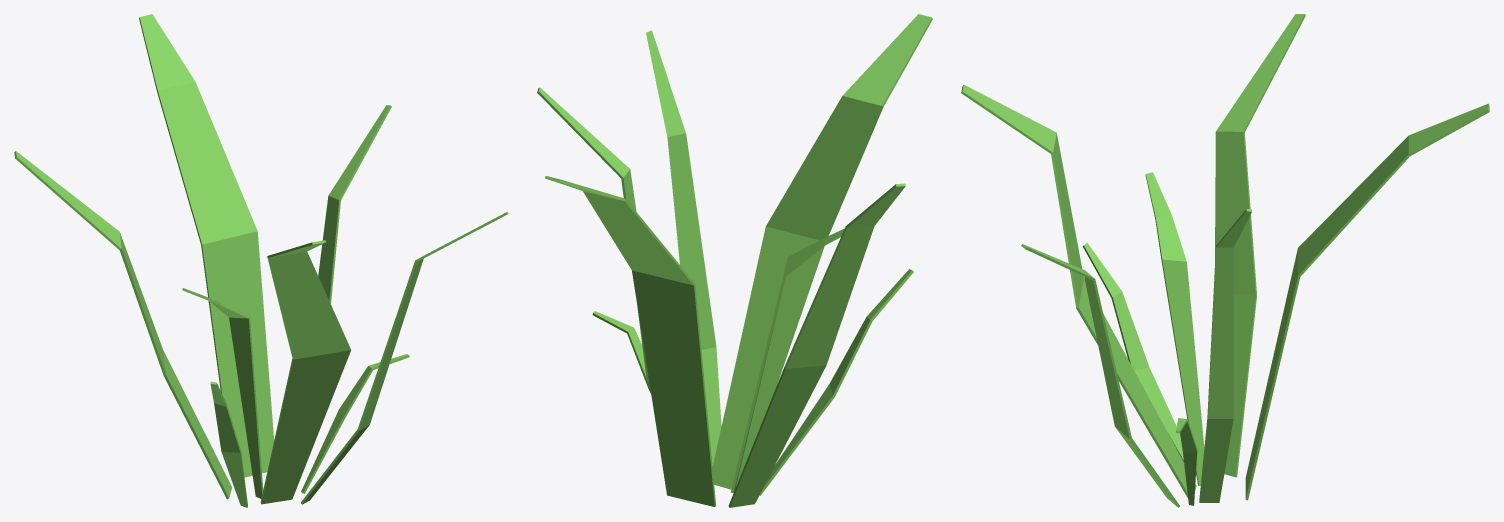
Rendered from result.gltf.
The picture shows the model from 3 angles, left to right: view 1: azimuth 30°, elevation 25°; view 2: azimuth 150°, elevation 25°; view 3: azimuth 270°, elevation 25°; orthographic projection. The views are drawn at different scales.
Visible parts, largest first — view 1: Grass_2; view 2: Grass_2; view 3: Grass_2.
Part boxes in pixels (x1,y1,x2,y2): Grass_2: (14,14,508,507); Grass_2: (537,14,932,507); Grass_2: (961,14,1489,507).
Size of the model in its own units: 25.47 by 25.46 by 30.94.
